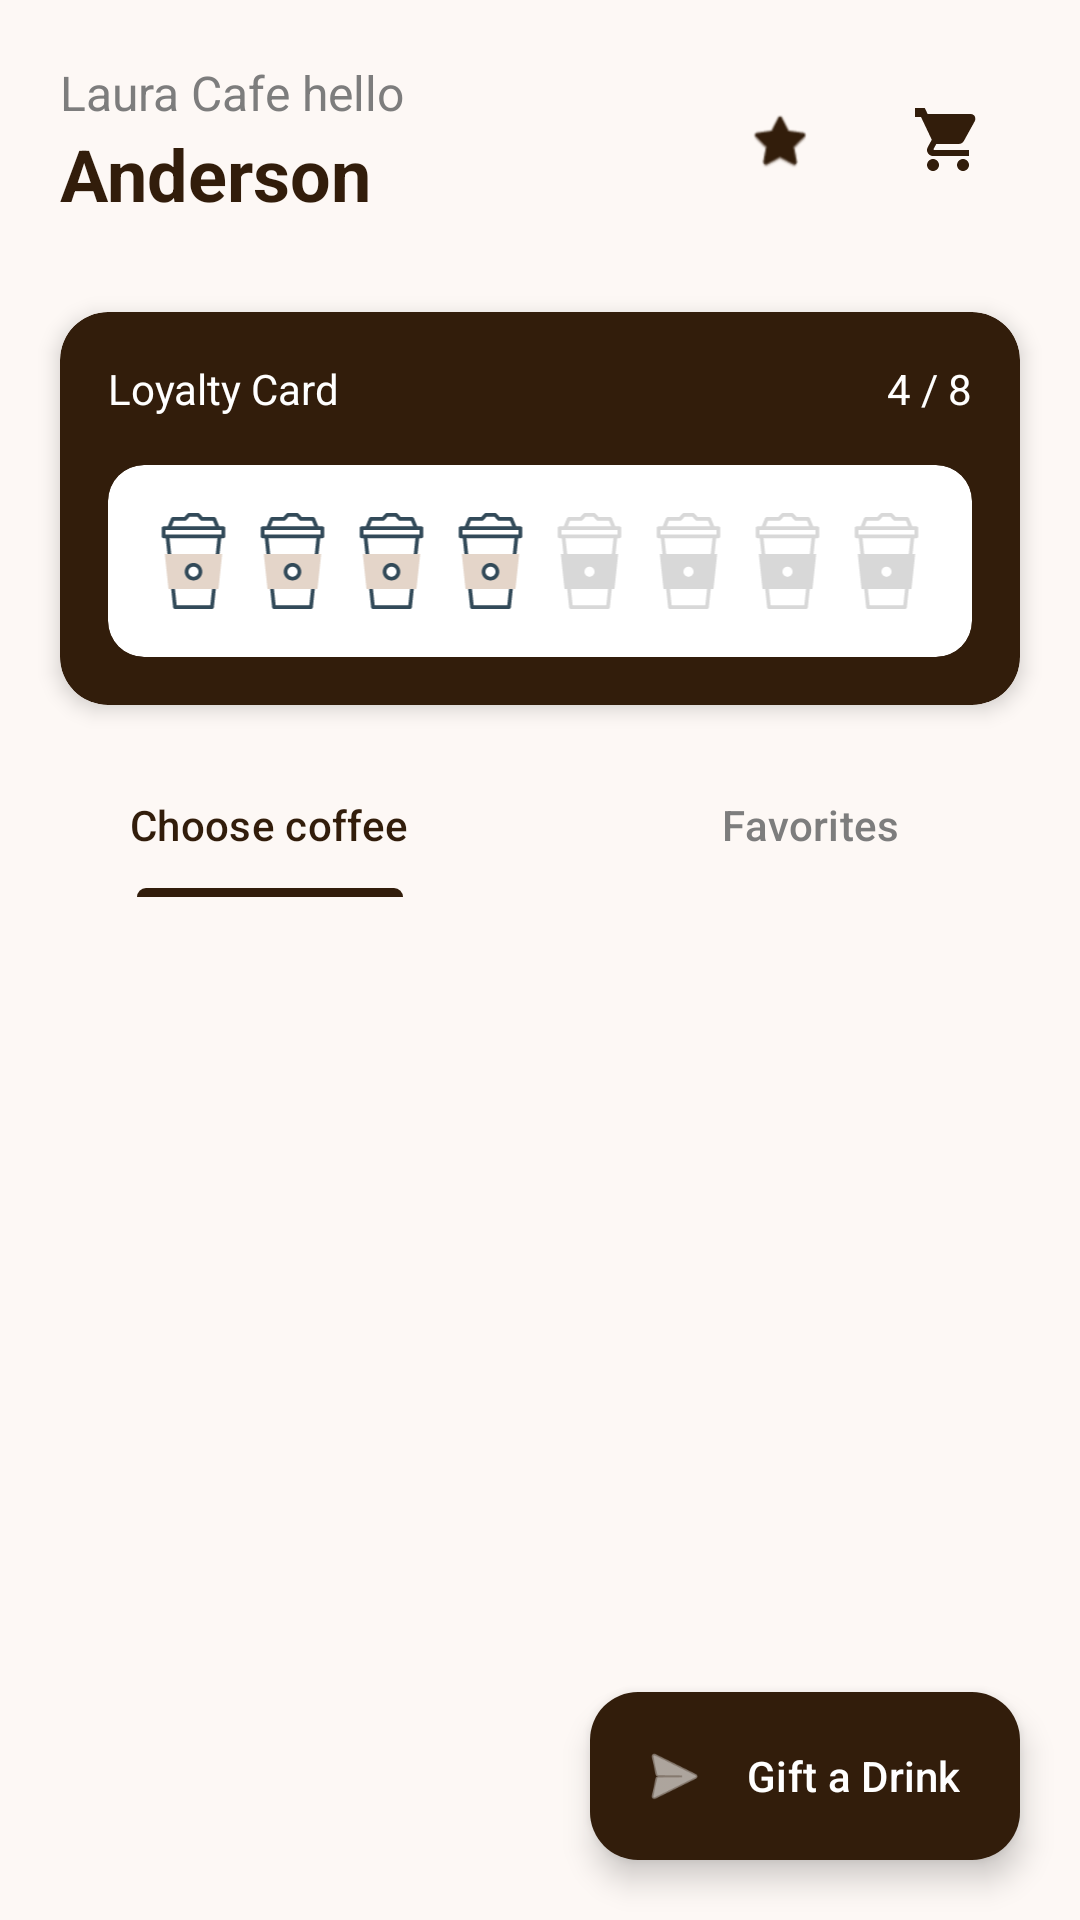

Icon click points for this 1080px x 1920px phone screenshot, format (x=x, y=y):
cart: (x=945, y=139)
stamp: (x=193, y=561), (x=292, y=561), (x=391, y=561), (x=490, y=561)
stamp empty: (x=589, y=561), (x=688, y=561), (x=787, y=561), (x=886, y=561)
star on: (x=780, y=141)
